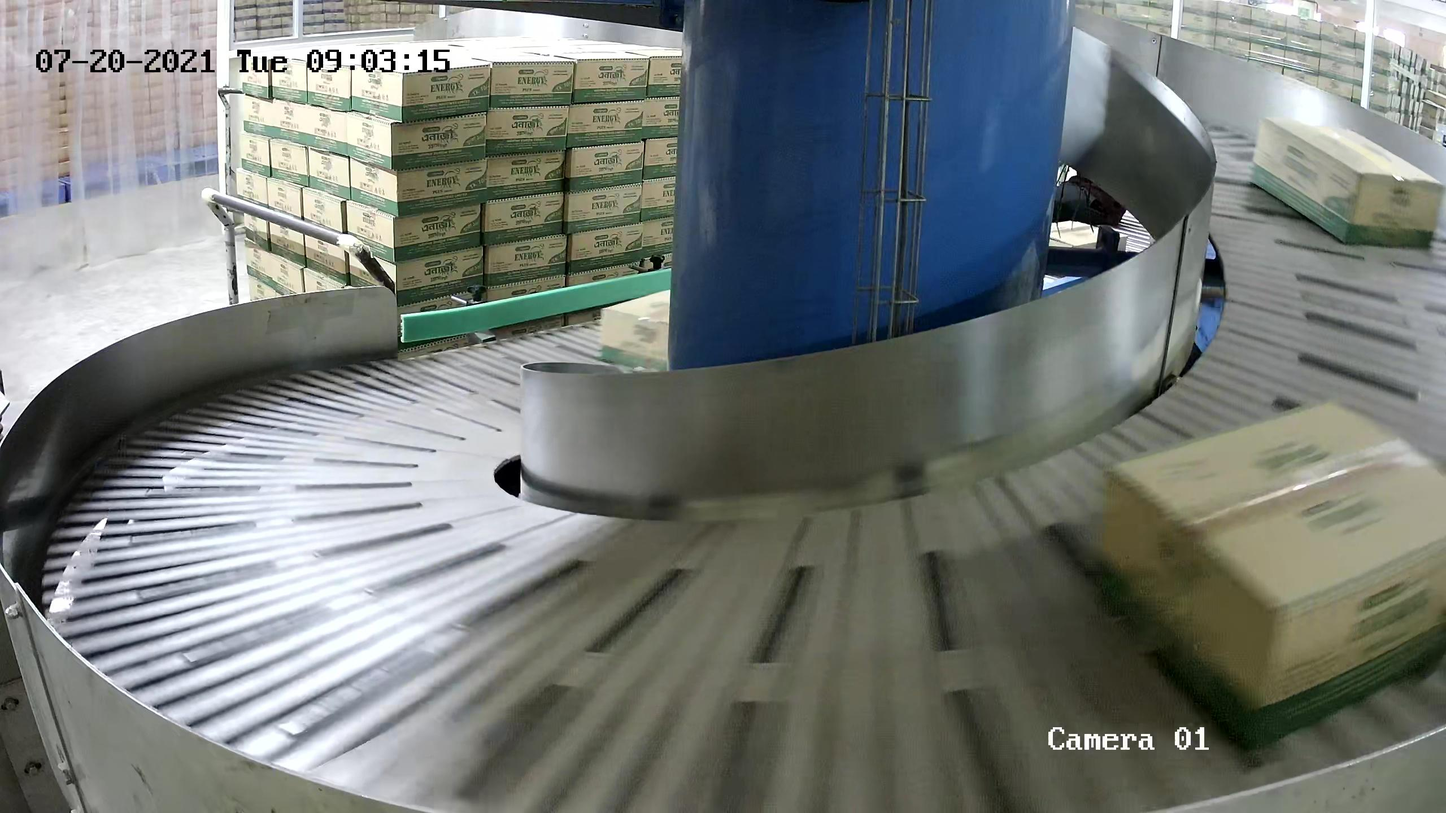Box: (1091, 393, 1446, 761), (1248, 117, 1446, 248), (603, 273, 750, 387)
